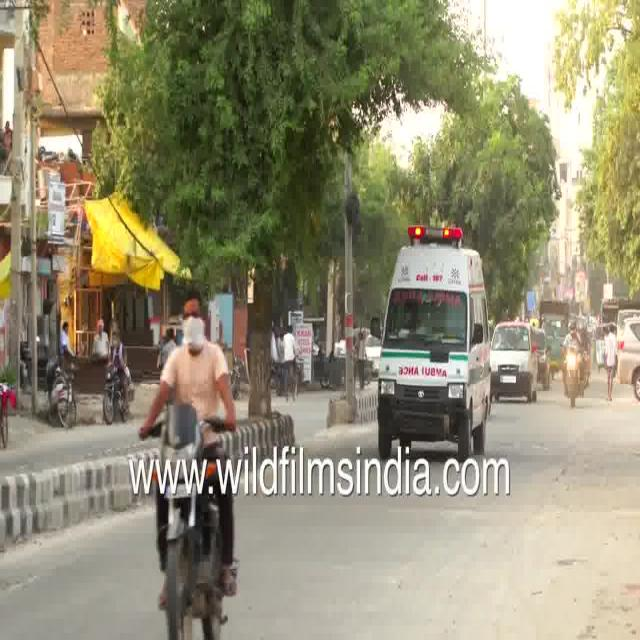ambulance: (367, 227, 505, 456)
